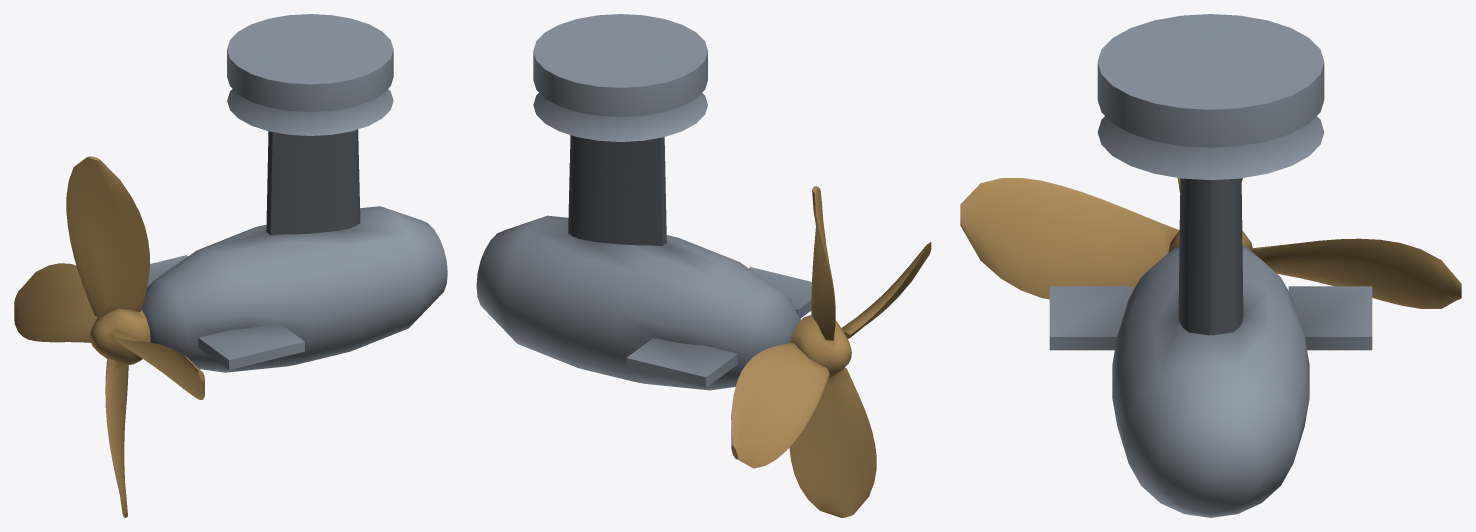
Rendered from azipod.glb.
The picture shows the model from 3 angles, left to right: view 1: azimuth 30°, elevation 25°; view 2: azimuth 150°, elevation 25°; view 3: azimuth 270°, elevation 25°; orthographic projection. The views are drawn at different scales.
Visible parts, largest first — view 1: pod, propeller; view 2: pod, propeller; view 3: pod, propeller.
Part boxes in pixels (x1,y1,x2,y2): pod: (141,14,447,372); propeller: (14,156,204,517); pod: (476,14,811,390); propeller: (731,186,931,517); pod: (1049,14,1372,517); propeller: (960,178,1461,308).
Bounding box in the file's own units: 0.9312 × 1.02 × 0.84.
